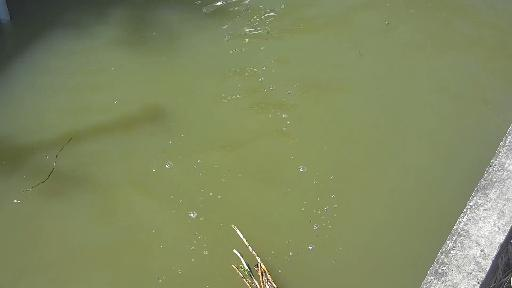twig: (18, 134, 101, 197), (218, 218, 291, 288)
